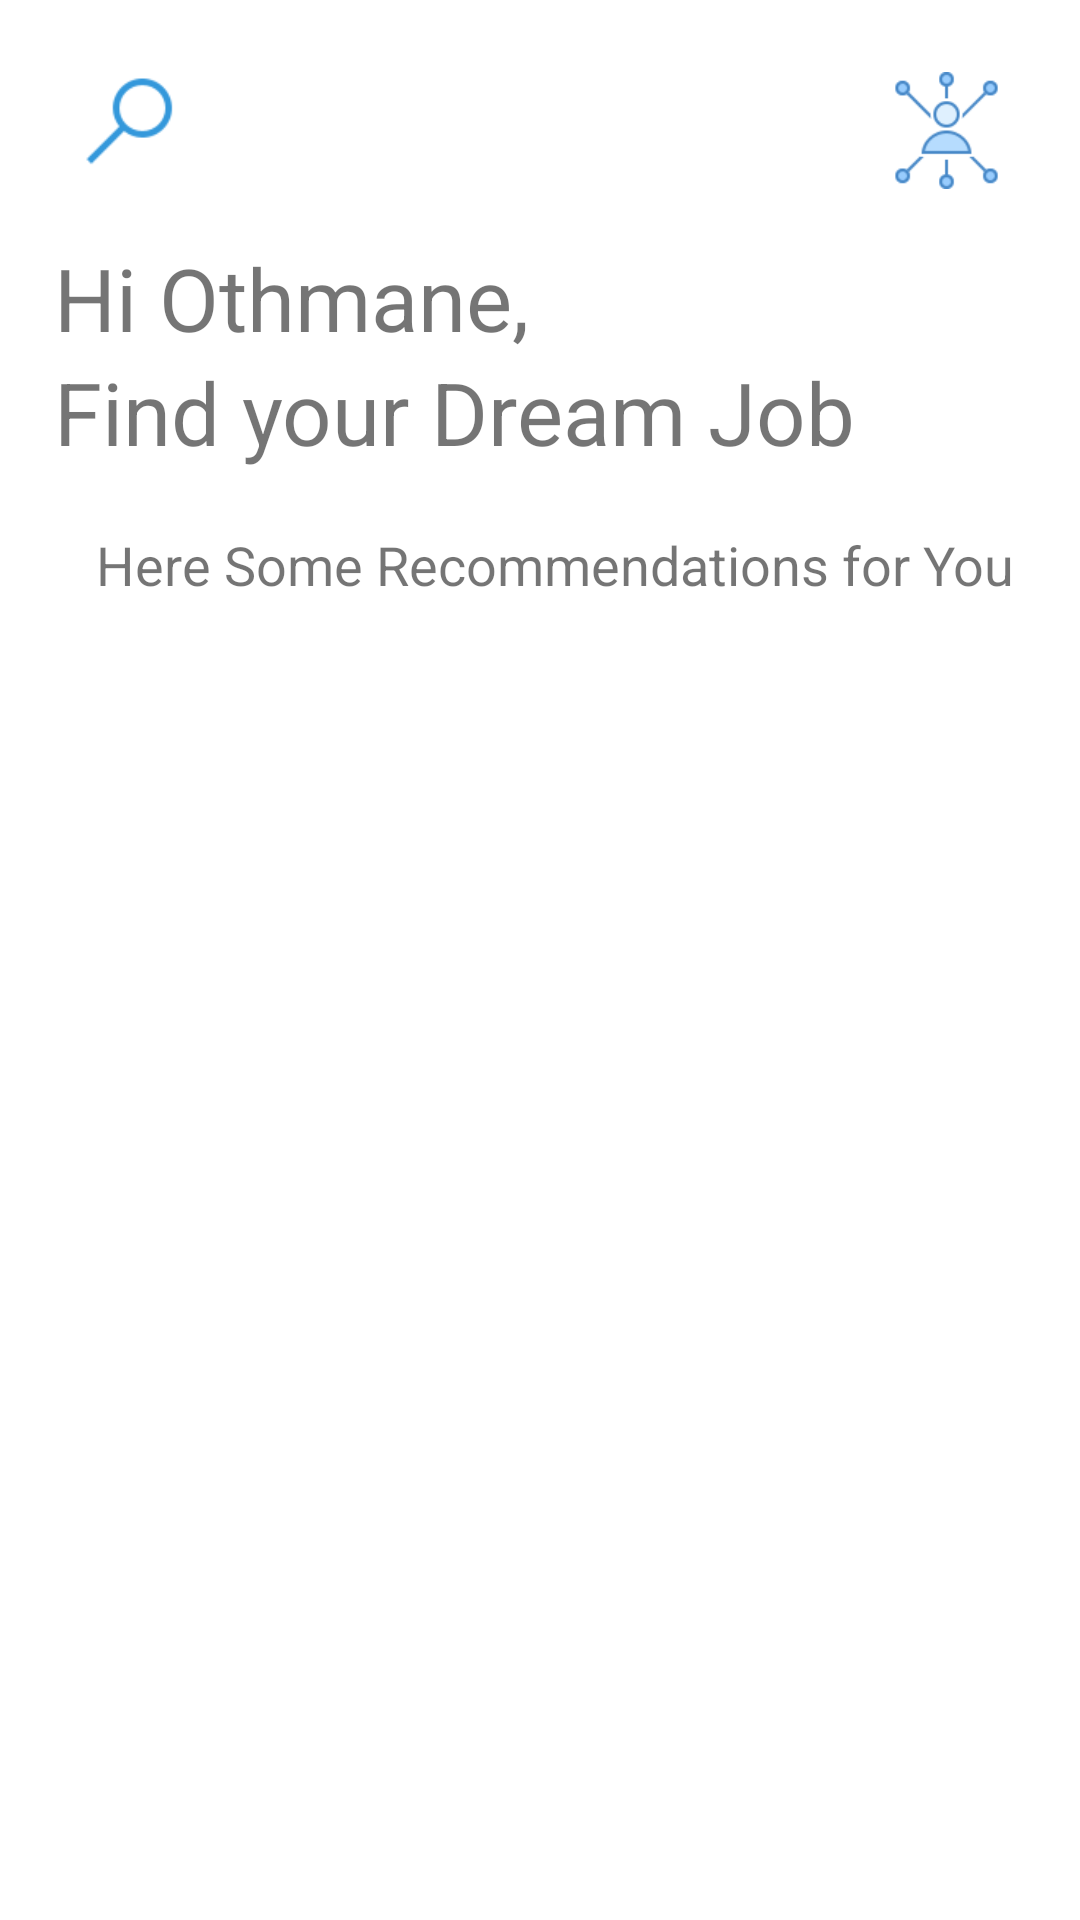

Icons on this 1080 × 1920 Android screen, each with its box as (x1, y1, x2, y2):
customer insight: (895, 72, 998, 189)
search: (86, 78, 173, 164)
